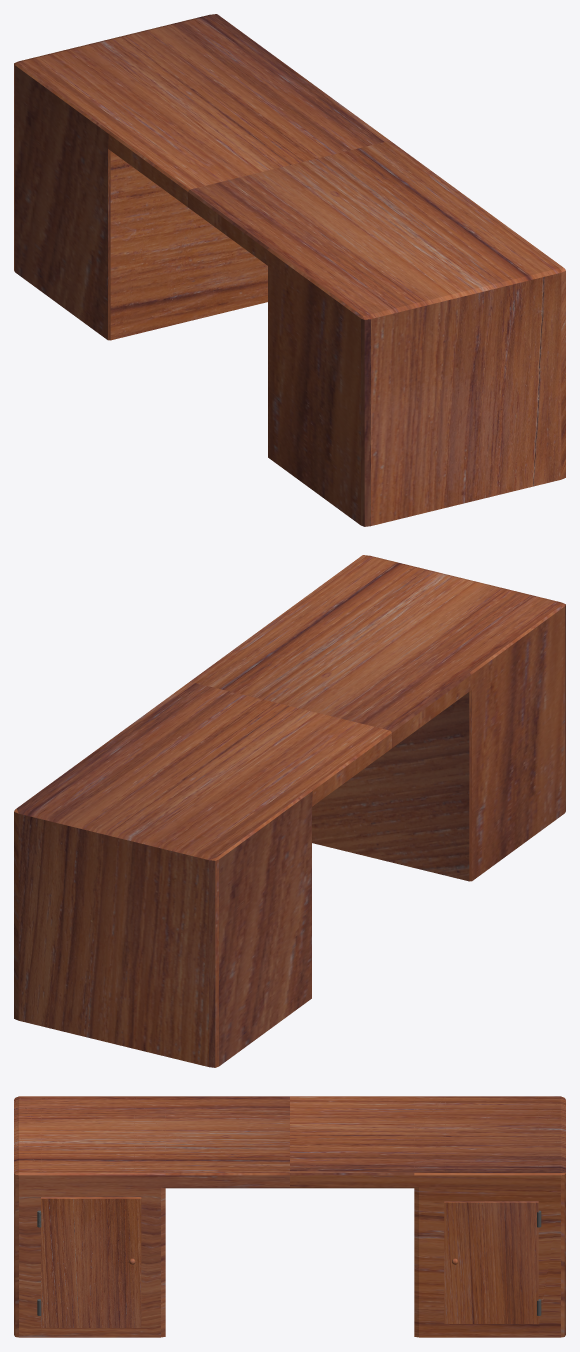
File: Desk.glb
3 renders of one model, top to bottom at view 1: azimuth 30°, elevation 25°; view 2: azimuth 150°, elevation 25°; view 3: azimuth 270°, elevation 25°, orthographic. The views are drawn at different scales.
Parts seen in each view (by area): view 1: desk; view 2: desk; view 3: desk, door, door.2.
Part boxes in pixels (x1,y1,x2,y2): desk: (14, 14, 565, 526); desk: (14, 555, 565, 1067); desk: (14, 1096, 565, 1337); door: (41, 1197, 141, 1327); door.2: (444, 1201, 538, 1323).
Size of the model in its own units: 2.11 by 1.96 by 5.98.
2 materials, 2 textured.
